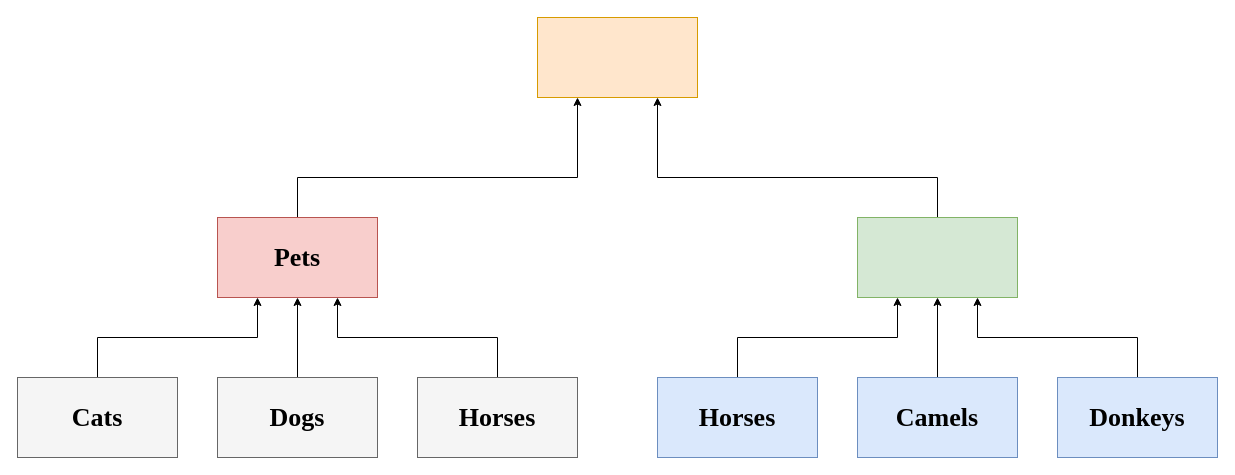
This 1235x475 diagram has some shape labels left out. Each missing label, with the box of its shape:
Animals: (536, 16, 698, 98)
Pack Animals: (856, 216, 1018, 298)
